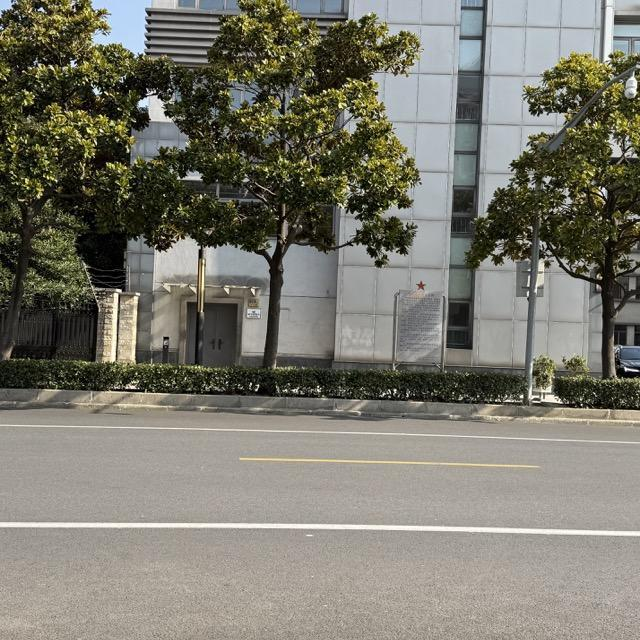curb: (0, 389, 639, 424)
